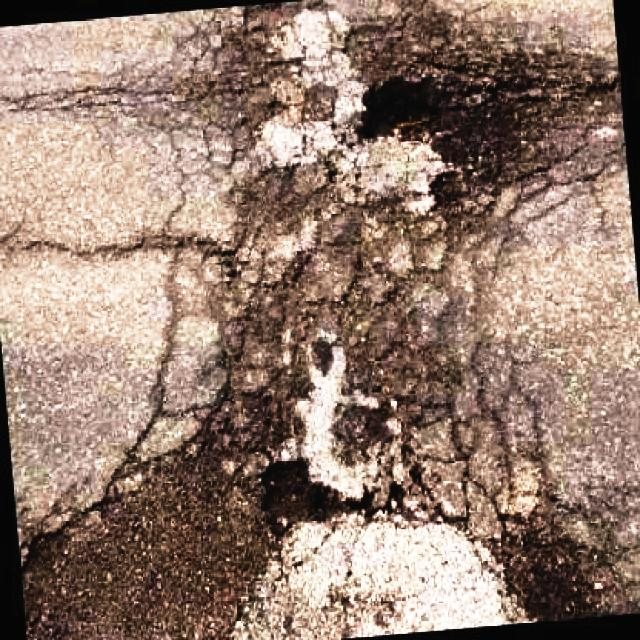pothole: (488, 523, 600, 625), (260, 449, 366, 545), (340, 70, 466, 148)
